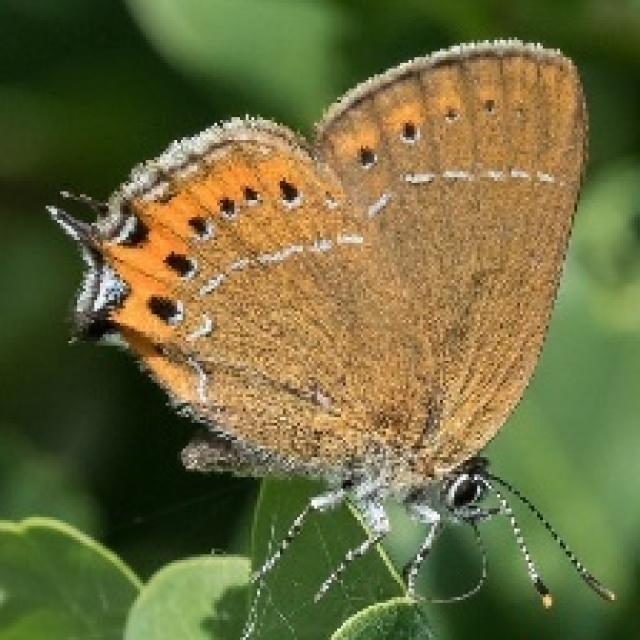butterfly: (43, 34, 617, 637)
